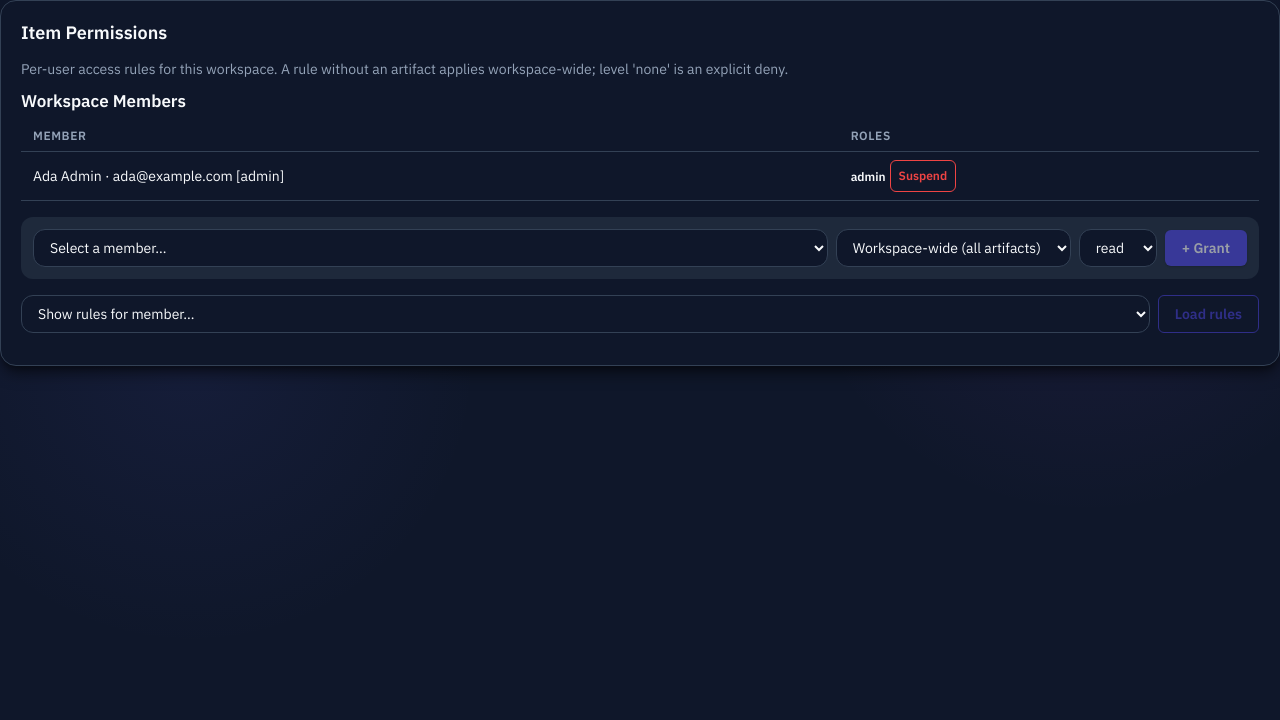
Test: PermissionsSection — LAST_ADMIN handling › falls back to the raw message when the sentence does not match
The image size is (1280, 720).
What coordinates should you click on to do the following:
click the button "Suspend"
I would click on:
 (923, 176)
Its box is 890,160 -> 956,192.
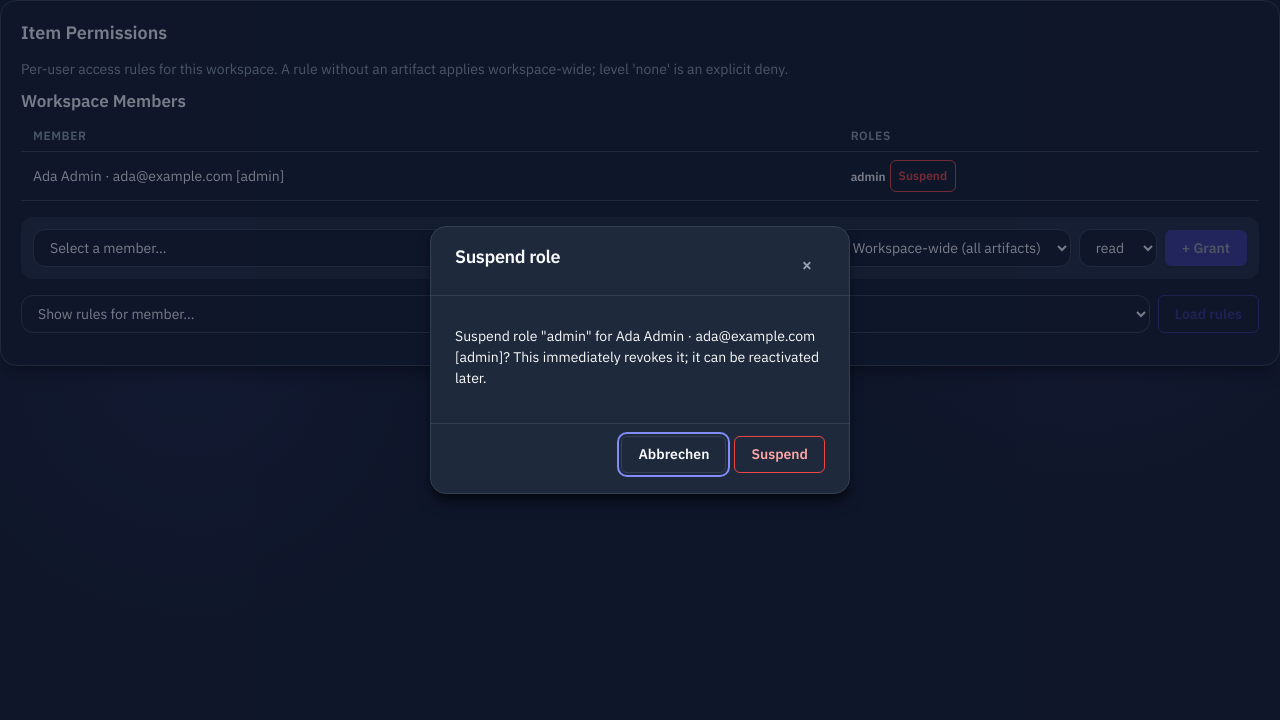
What coordinates should you click on to do the following:
click the button with test id "workspace-member-suspend-confirm-confirm"
I would click on:
 (780, 454)
Its box is 734,436 -> 825,473.
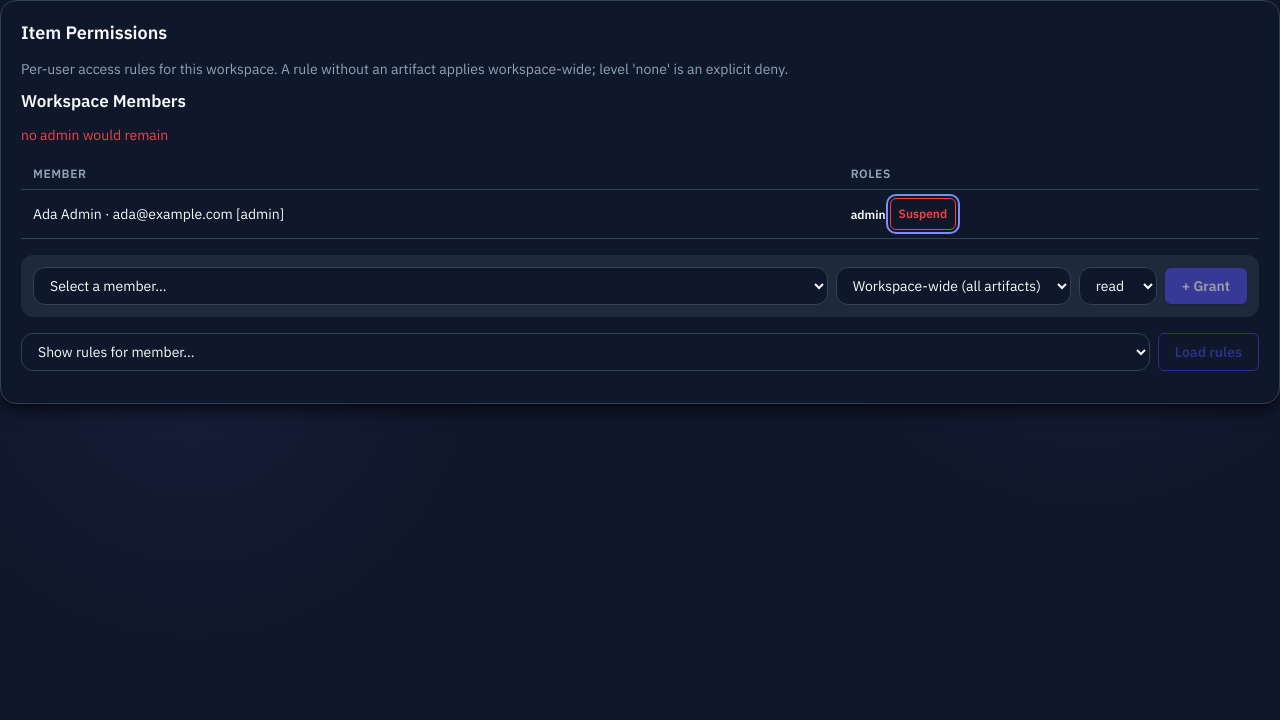
expect the message "no admin would remain" is not empty: met, box 21,126 -> 168,144
expect the message with test id "workspace-members-error" reads "no admin would remain": met, box 21,126 -> 168,144
